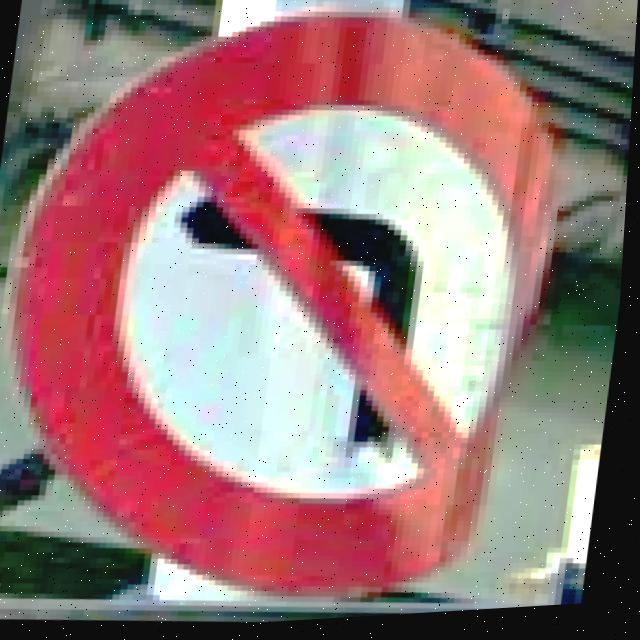noturnleft: (0, 0, 585, 625)
